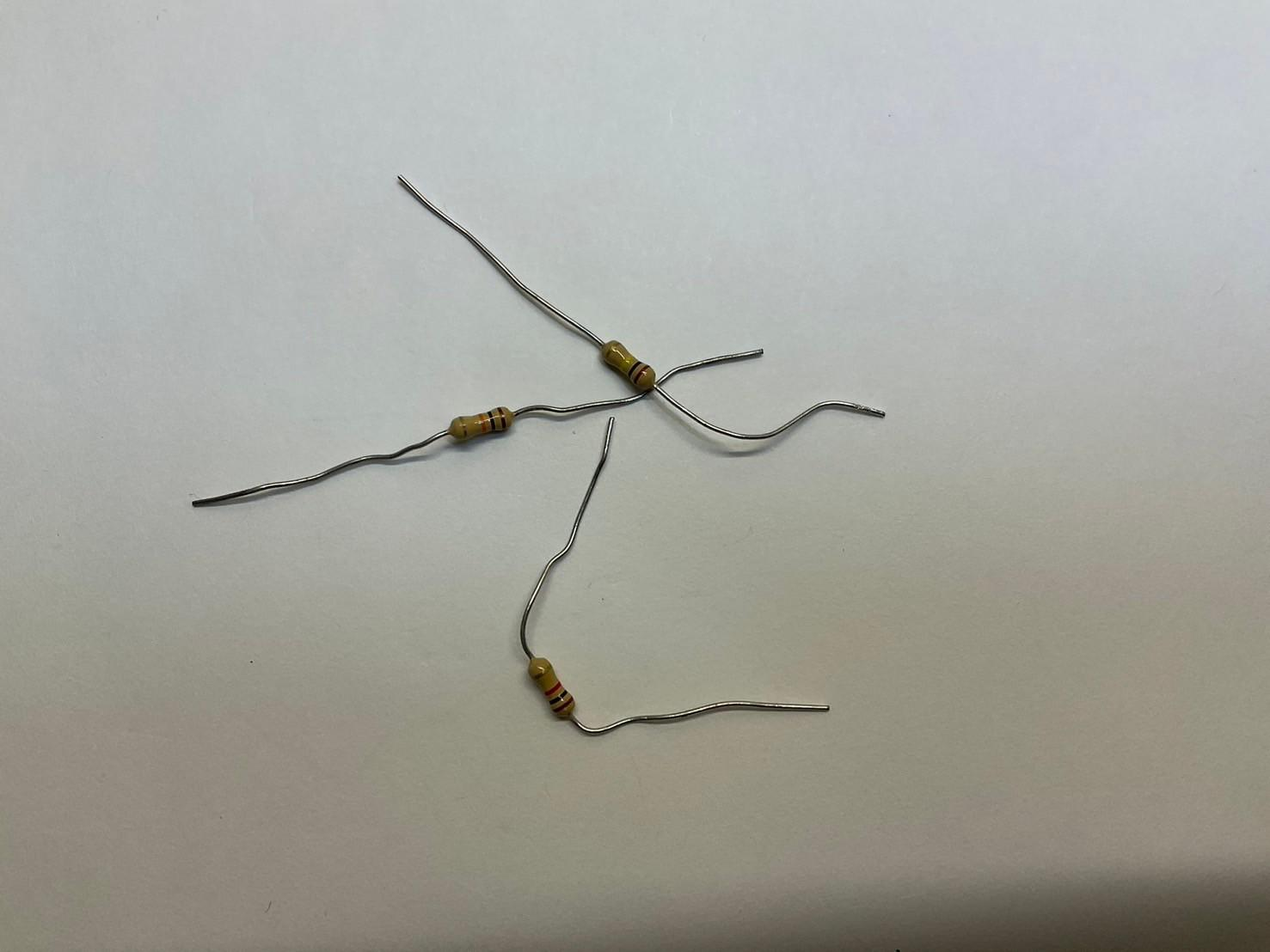resistor: (525, 657, 579, 719), (597, 337, 656, 392), (449, 405, 514, 442)
